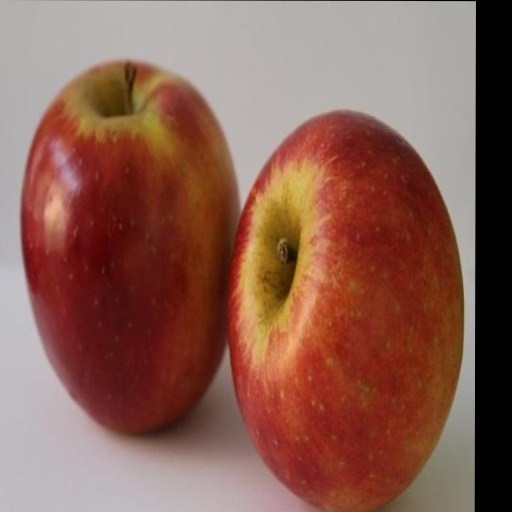fruit: (229, 112, 463, 512), (21, 63, 238, 432)
